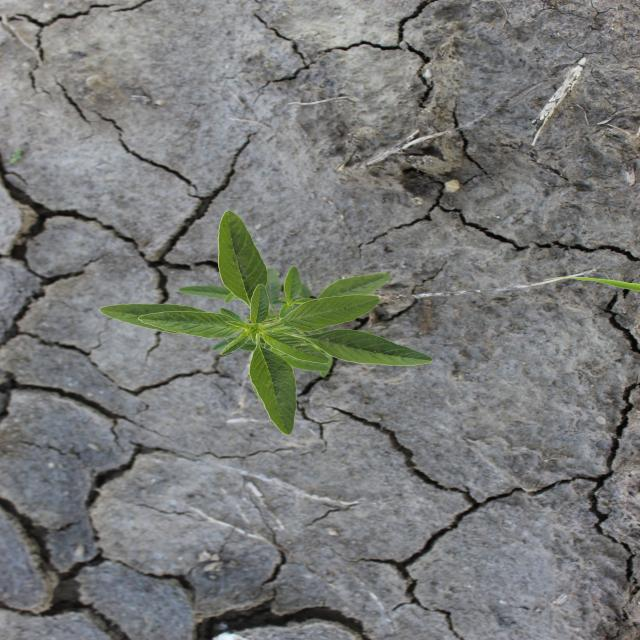Waterhemp: (97, 209, 433, 437)
